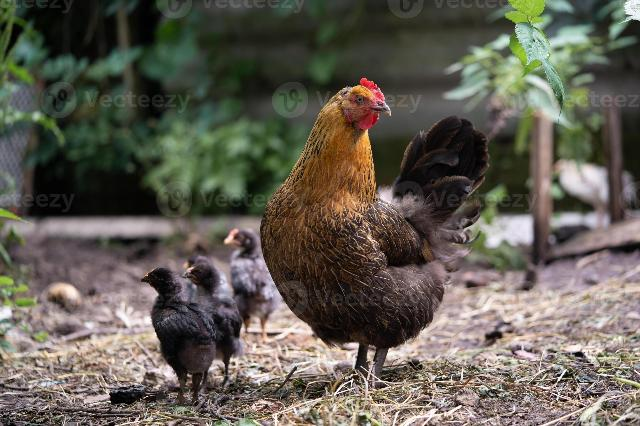Chicken: (259, 80, 489, 383)
